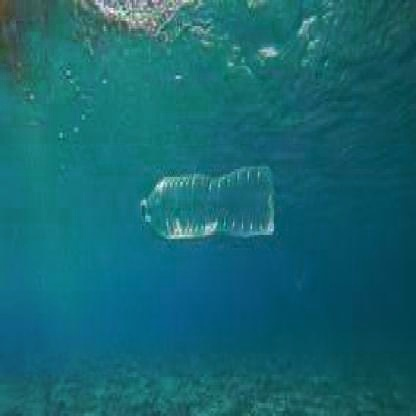pbottle: (128, 154, 292, 258)
